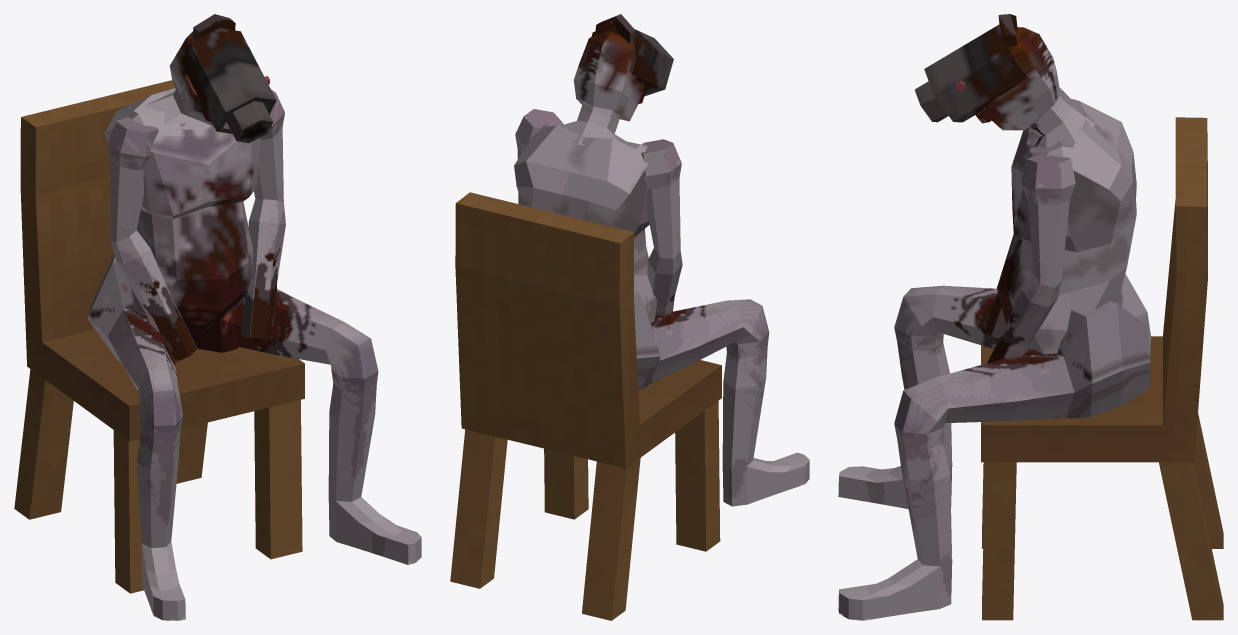
The model's file is bofy 1.fbx.
3 views of the same model, side by side, from view 1: azimuth 30°, elevation 25°; view 2: azimuth 150°, elevation 25°; view 3: azimuth 270°, elevation 25° (orthographic). The views are drawn at different scales.
Visible parts, largest first — view 1: Стул, Cylinder, Cube, Cylinder.001, Cylinder.004, Cylinder.003, Cylinder.002, Cube.002; view 2: Стул, Cylinder, Cube, Cylinder.001, Cylinder.003, Cylinder.004, Cylinder.002, Cube.002; view 3: Cylinder, Стул, Cube, Cylinder.001, Cylinder.004, Cylinder.003, Cylinder.002.
Part boxes in pixels (x1,y1,x2,y2): Стул: (14,80,304,593); Cylinder: (87,254,421,620); Cube: (104,88,260,332); Cylinder.001: (107,89,285,362); Cylinder.004: (181,28,276,142); Cylinder.003: (169,31,213,126); Cylinder.002: (145,89,211,129); Cube.002: (193,14,235,40); Стул: (450,192,721,620); Cylinder: (634,291,809,506); Cube: (514,122,657,322); Cylinder.001: (515,109,682,315); Cylinder.003: (573,32,644,121); Cylinder.004: (591,29,673,95); Cylinder.002: (559,103,625,145); Cube.002: (595,14,635,43); Cylinder: (838,274,1150,620); Стул: (981,117,1223,620); Cube: (997,97,1136,354); Cylinder.001: (983,87,1075,363); Cylinder.004: (914,24,1027,122); Cylinder.003: (984,27,1060,130); Cylinder.002: (1028,96,1095,147).
Size of the model in its own units: 51.81 by 103 by 62.99.
